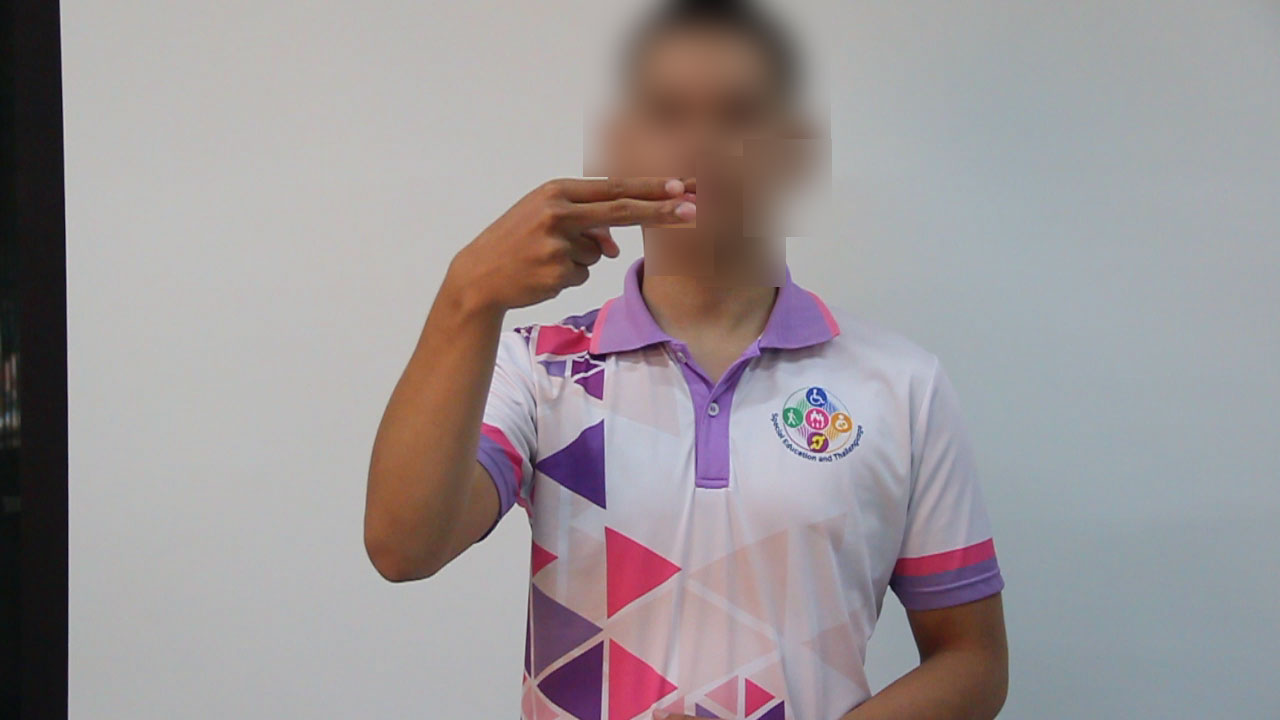hor: (432, 168, 707, 317)
